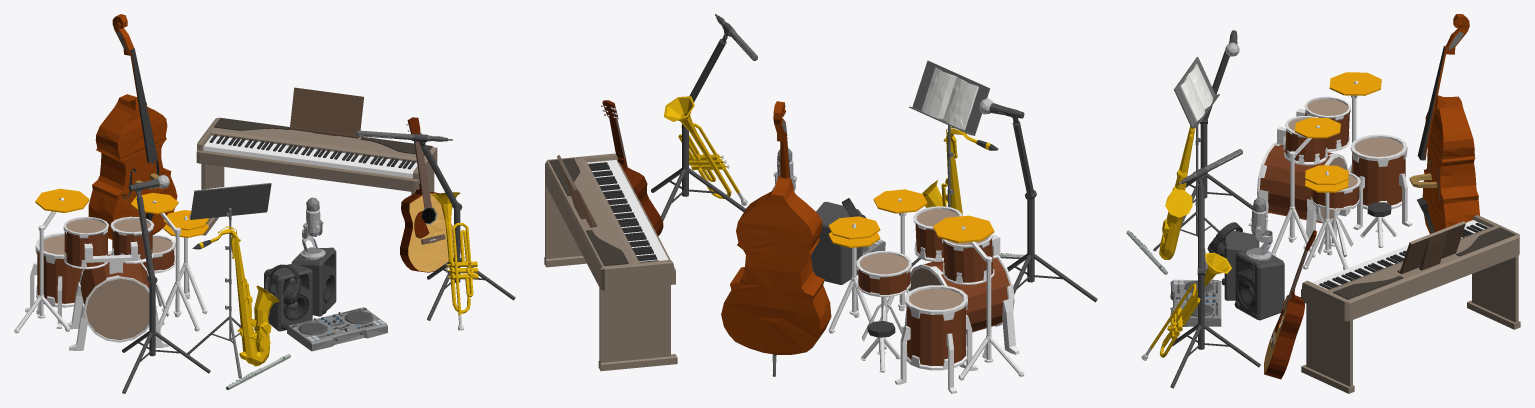
The model's file is new_Sketchfab_2017_09_30_19_06_19.fbx.
3 views of the same model, side by side, from view 1: azimuth 30°, elevation 25°; view 2: azimuth 150°, elevation 25°; view 3: azimuth 270°, elevation 25° (orthographic). The views are drawn at different scales.
Parts seen in each view (by area): view 1: Cube.011, Cylinder.007, Cylinder, Cylinder.031, Cube.007, Cylinder.003, Cube.018, Cylinder.032, Cube, Cylinder.002, Cube.014, Cube.006 (+21 smaller); view 2: Cube.011, Cylinder.007, Cylinder.003, Cylinder, Cylinder.004, Cylinder.032, Cube, Cube.020, Cube.013, Cylinder.002, Cylinder.031, Cylinder.001 (+14 smaller); view 3: Cube.011, Cylinder.007, Cylinder.003, Cylinder, Cube.006, Cylinder.031, Cube.007, Cylinder.032, Cylinder.004, Cylinder.002, Cylinder.001, Cube (+21 smaller).
Boxes of the visible parts, x1,y1,x2,y2 form: Cube.011: [196, 87, 437, 235]; Cylinder.007: [88, 14, 177, 239]; Cylinder: [79, 251, 155, 342]; Cylinder.031: [192, 226, 279, 366]; Cube.007: [400, 184, 460, 272]; Cylinder.003: [25, 233, 83, 328]; Cube.018: [189, 183, 271, 219]; Cylinder.032: [431, 192, 478, 330]; Cube: [264, 263, 312, 331]; Cylinder.002: [63, 217, 108, 269]; Cube.014: [287, 307, 387, 351]; Cube.006: [291, 247, 336, 316]; Cube.011: [544, 153, 677, 371]; Cylinder.007: [721, 101, 831, 376]; Cylinder.003: [895, 285, 977, 393]; Cylinder: [906, 255, 1014, 333]; Cylinder.004: [856, 251, 911, 349]; Cylinder.032: [663, 96, 747, 205]; Cube: [811, 201, 862, 284]; Cube.020: [921, 67, 978, 130]; Cube.013: [588, 162, 658, 262]; Cylinder.002: [942, 233, 994, 284]; Cylinder.031: [922, 127, 998, 215]; Cylinder.001: [913, 206, 962, 261]; Cube.011: [1301, 215, 1520, 393]; Cylinder.007: [1409, 14, 1479, 233]; Cylinder.003: [1350, 134, 1412, 229]; Cylinder: [1257, 142, 1347, 223]; Cube.006: [1234, 251, 1284, 320]; Cylinder.031: [1159, 126, 1195, 259]; Cube.007: [1264, 290, 1304, 379]; Cylinder.032: [1141, 252, 1231, 360]; Cylinder.004: [1311, 172, 1360, 256]; Cylinder.002: [1304, 96, 1350, 151]; Cylinder.001: [1284, 115, 1327, 165]; Cube: [1221, 230, 1259, 300].
Size of the model in its own units: 3167 by 1780 by 2515.
